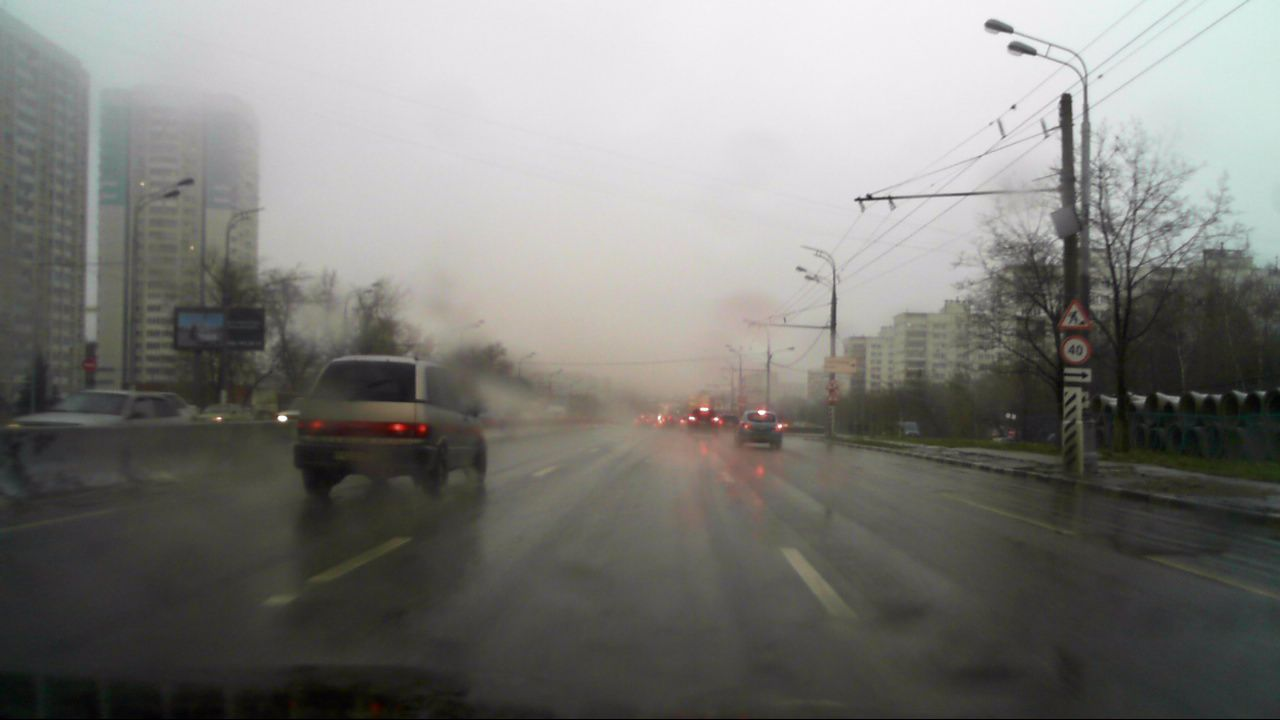speed_warning_40: (1061, 335, 1090, 364)
